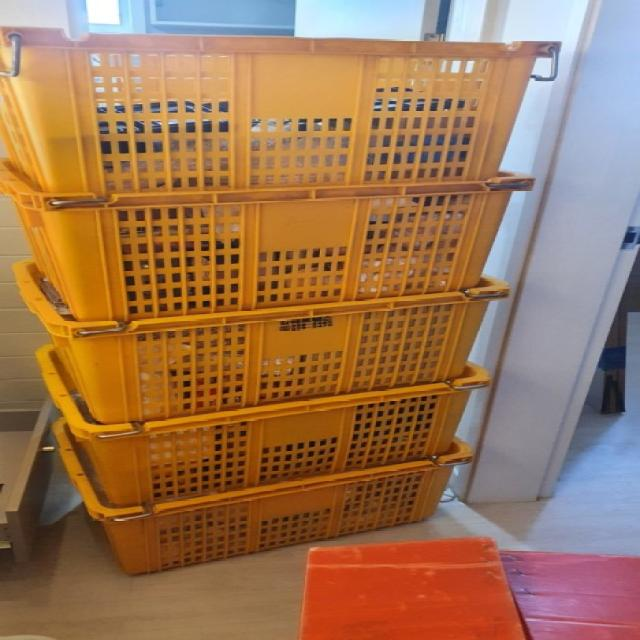basket: (0, 26, 559, 207), (8, 260, 509, 437), (0, 164, 532, 328), (29, 346, 489, 522), (45, 420, 473, 591)
